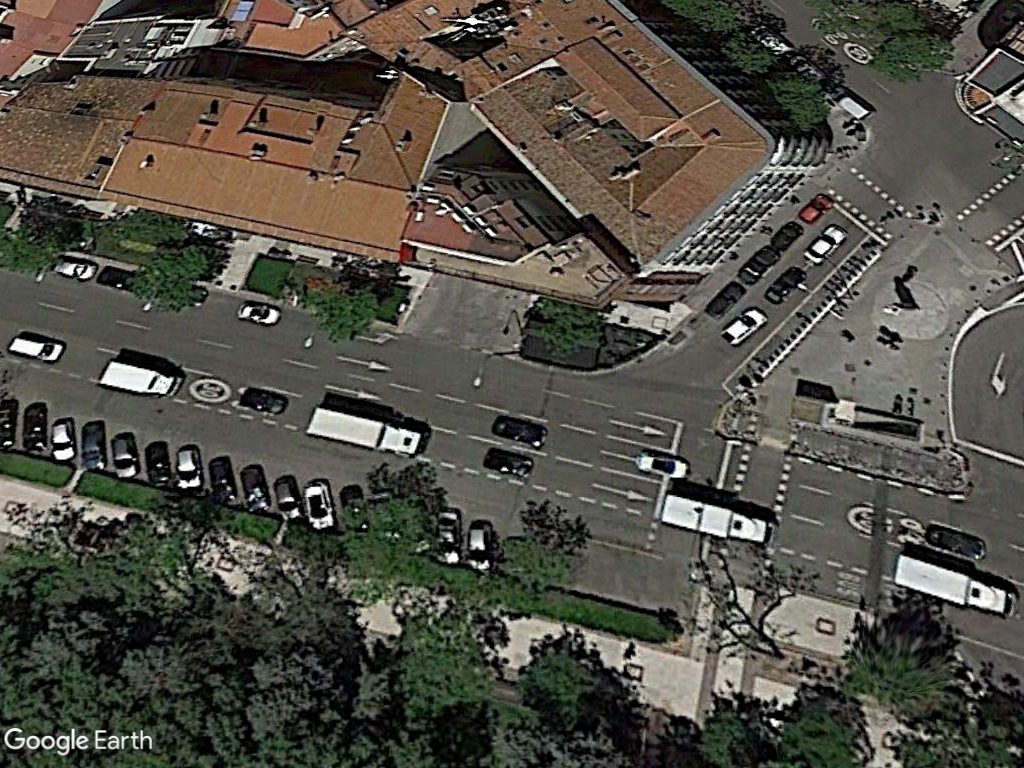car: (632, 446, 692, 480), (6, 331, 66, 364), (301, 478, 337, 532), (108, 432, 140, 482), (174, 444, 205, 492), (49, 416, 78, 464), (236, 298, 283, 327)
truck: (891, 549, 1019, 622), (659, 487, 777, 550), (305, 401, 422, 460), (97, 355, 183, 401)
